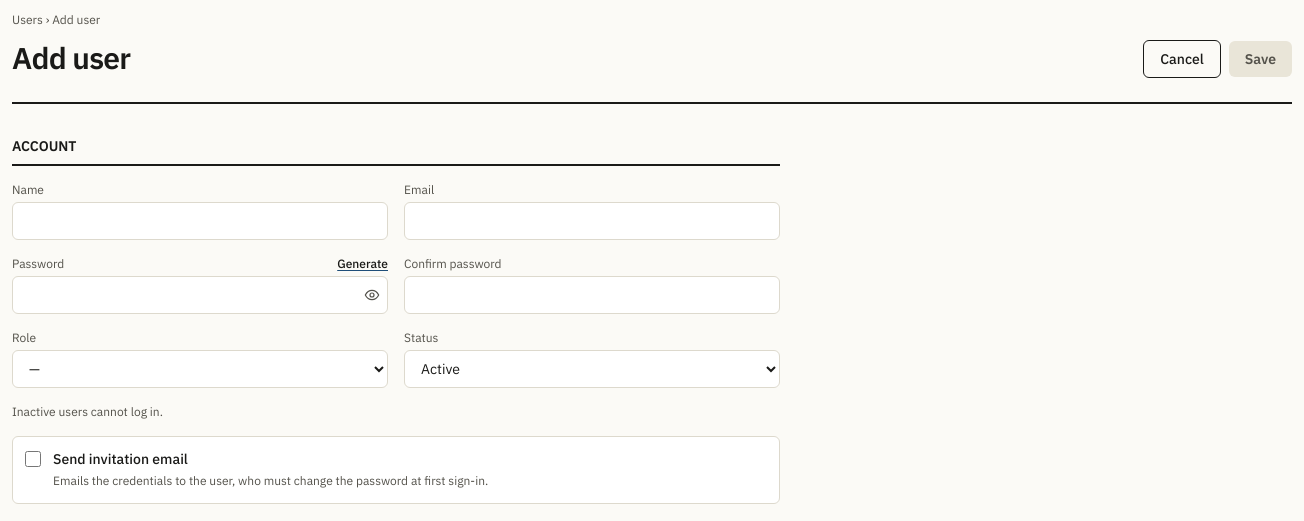
Test case: UserEditPage › generates a password that fills both fields and reveals it
Click the button with test id "generate-password" at (363, 264), box [337,256,388,272]
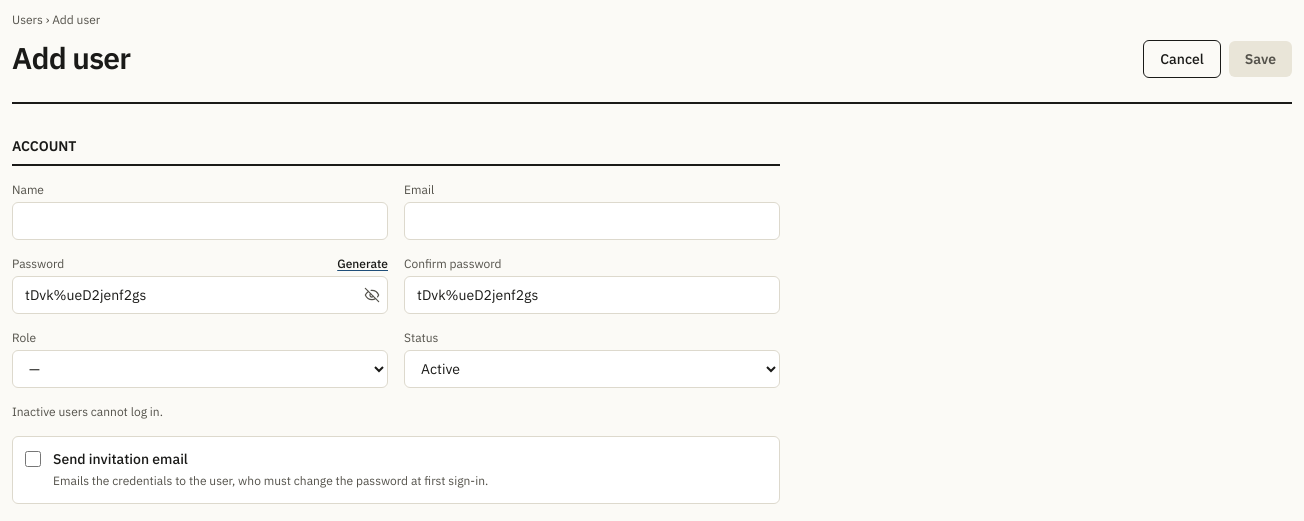
Expected: the field with test id "user-password" is not empty, [12,276,388,314]
